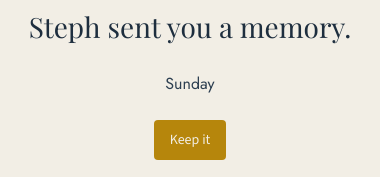
receiving a shared memory › clears pending token on expired and offers archive
Click the button "Keep it" at (190, 140), box [154, 120, 226, 160]
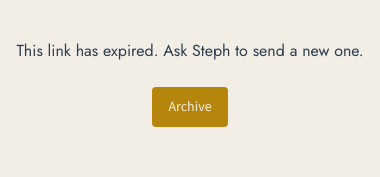
Check: the message "This link has expired. Ask Steph to send a new one." is shown, box [16, 39, 364, 62]
Check: the button "Archive" is shown, box [152, 87, 228, 127]
